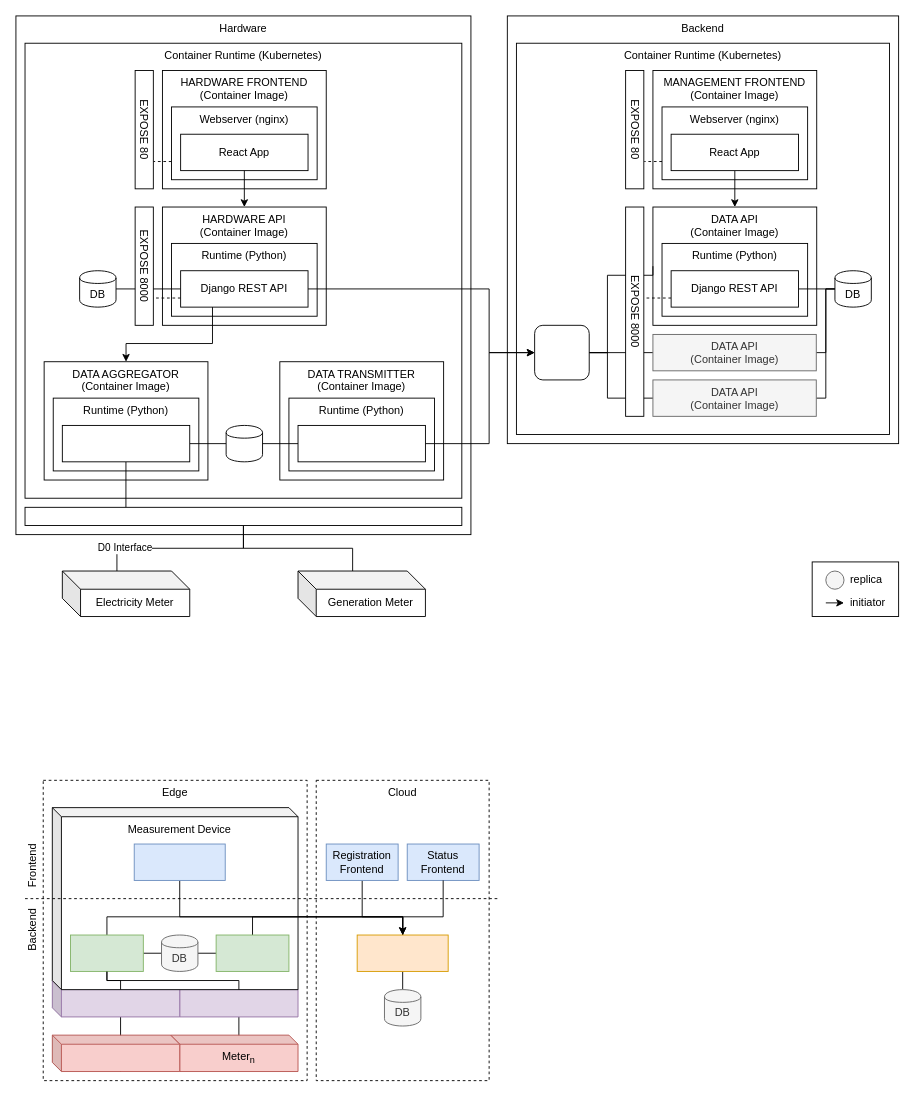
The diagram is 915 pixels wide and 1097 high, and some of its shapes have lost their labels. The centre of each missing label's shape, as x and y in pixels:
Buffer: the point at 244,443
Data Aggregator: the point at 106,952
Data API: the point at 402,952
Data Capture Script: the point at 125,443
Data Transmission Script: the point at 361,443
Data Transmitter: the point at 252,952
Device Frontend: the point at 179,861
Load Balancer: the point at 561,352
Measurement Probe 1: the point at 115,998
Measurement Probe n: the point at 234,998
Measuring Probe: the point at 243,516
Meter 1: the point at 115,1053
